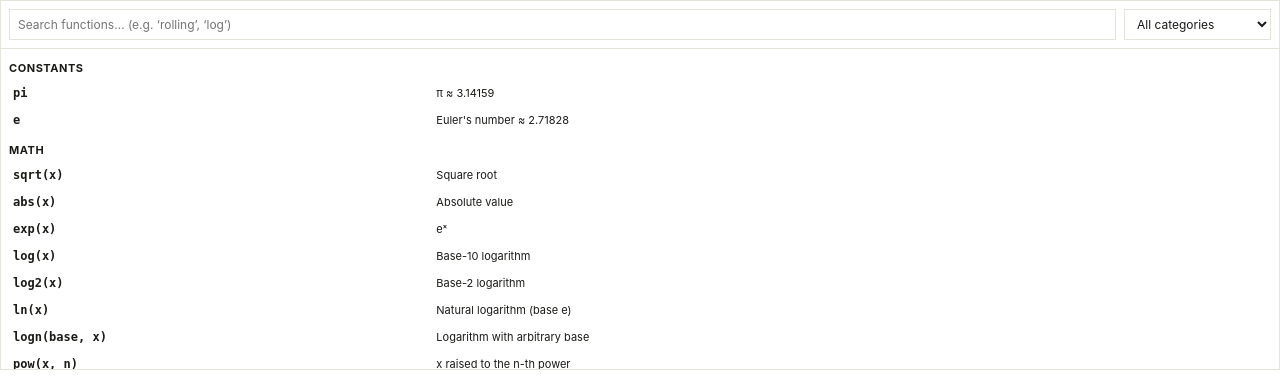
Test: FormulaReference › shows an empty state message when a search query yields no results
In the search field with placeholder "Search functions… (e.g. ‘rolling’, ‘log’)": (562, 24) [9, 9, 1116, 40], type "notafunctionthatshouldeverexist"
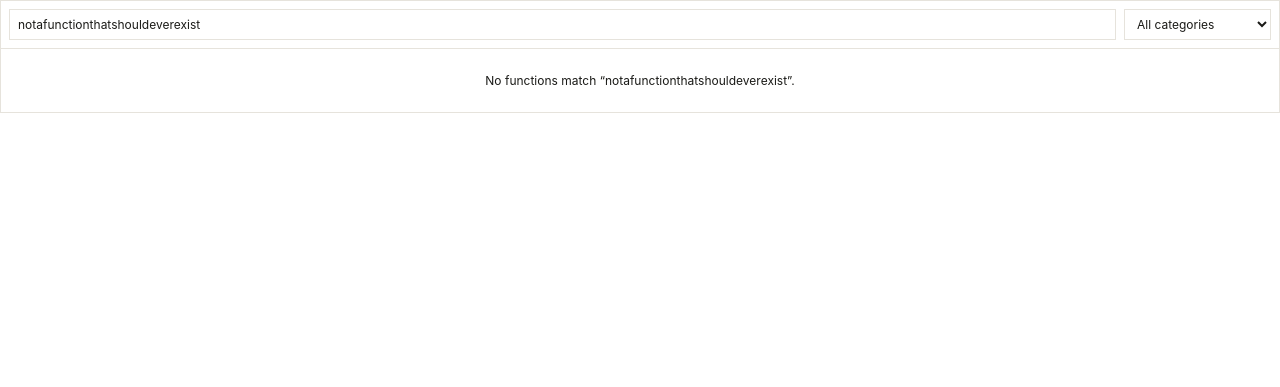
Expected: the text "No functions match “notafunctionthatshouldeverexist”." is shown, [485, 73, 795, 88]
